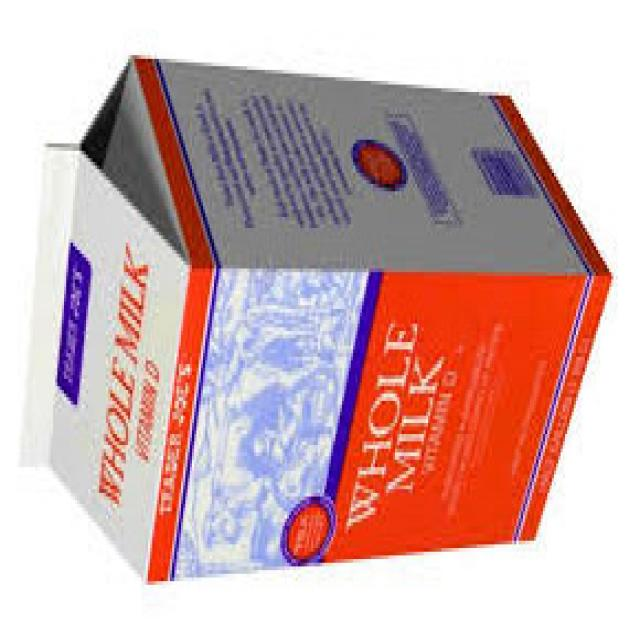non_white_jug: (19, 52, 617, 587)
